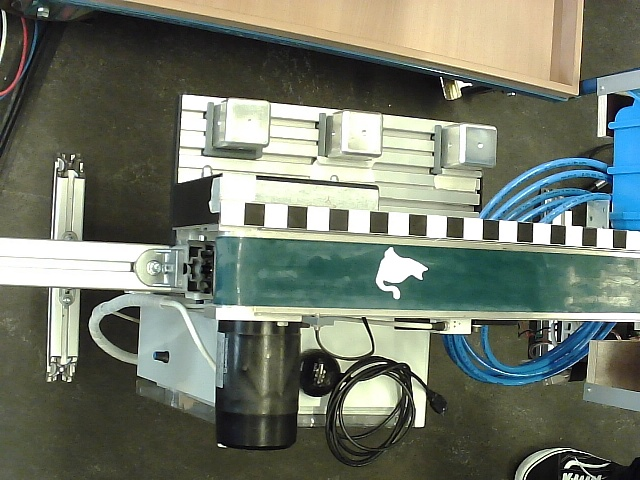cat: (375, 246, 429, 300)
